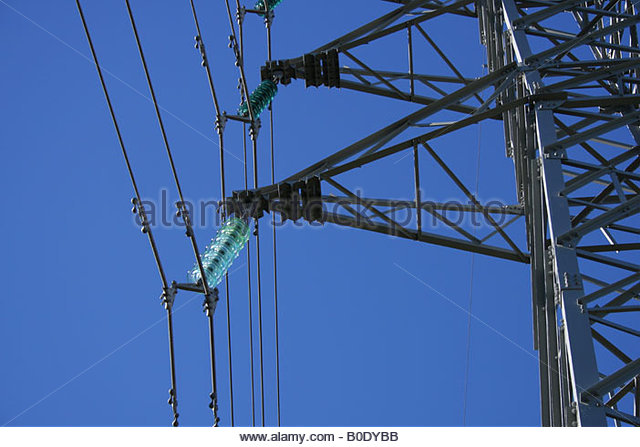isolator: (191, 215, 252, 291), (238, 80, 280, 120), (254, 1, 284, 18)
